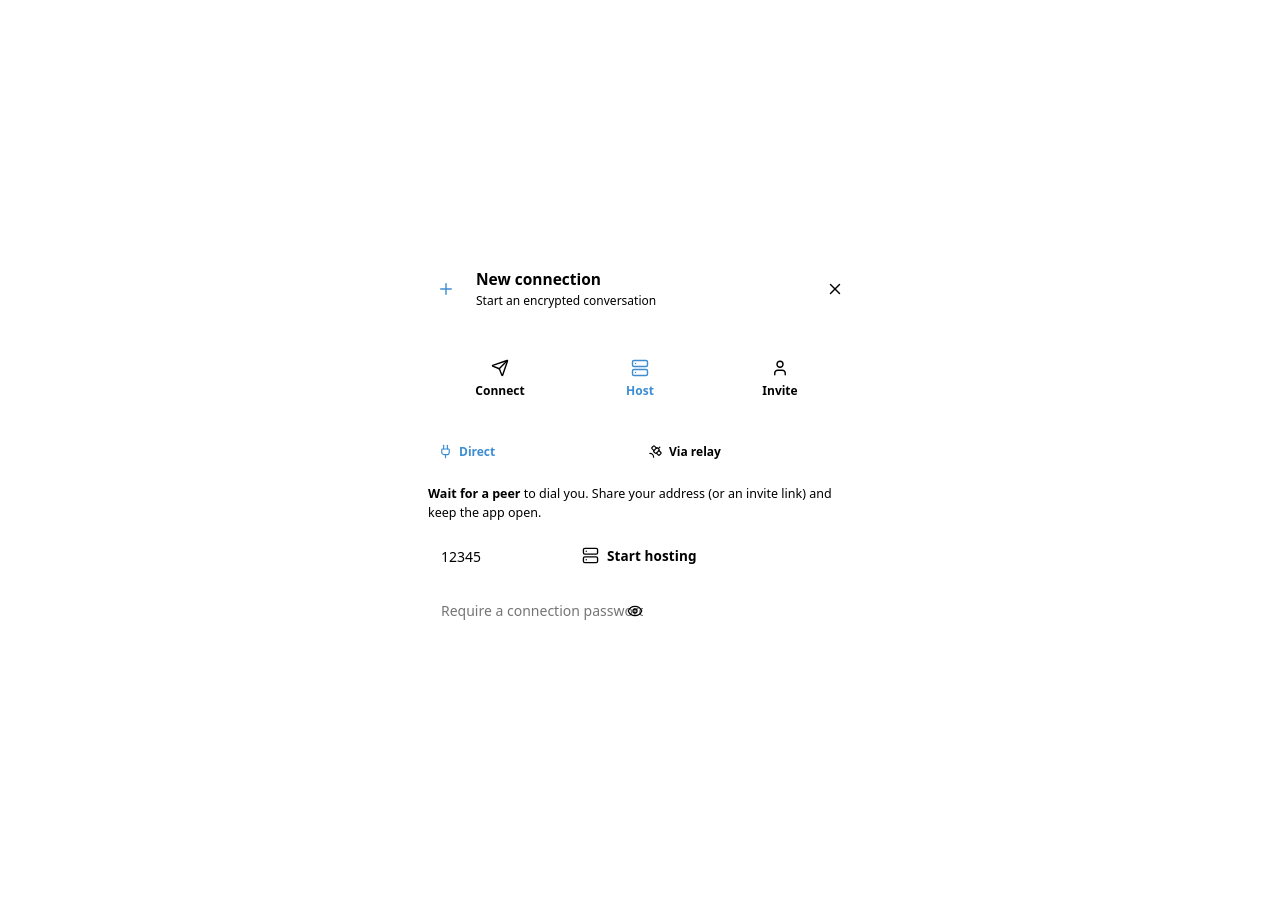
Scenario: Creator — hosting › rejects a bad listening port
The image size is (1280, 900).
Replace the text in the field showing "12345" with "0": (493, 556) [428,536,558,576]
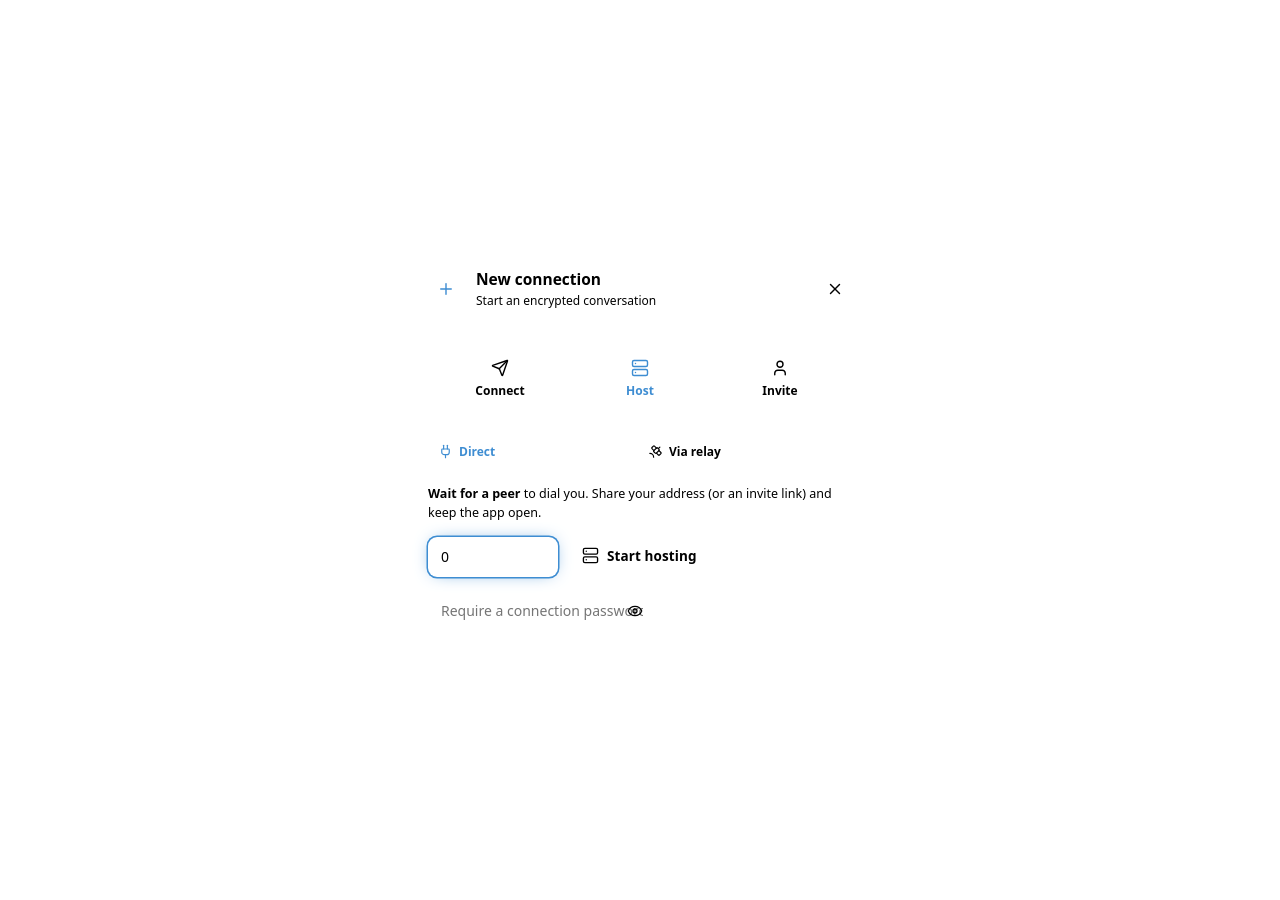
Click the button "Start hosting": (639, 555) [566,536,713,574]
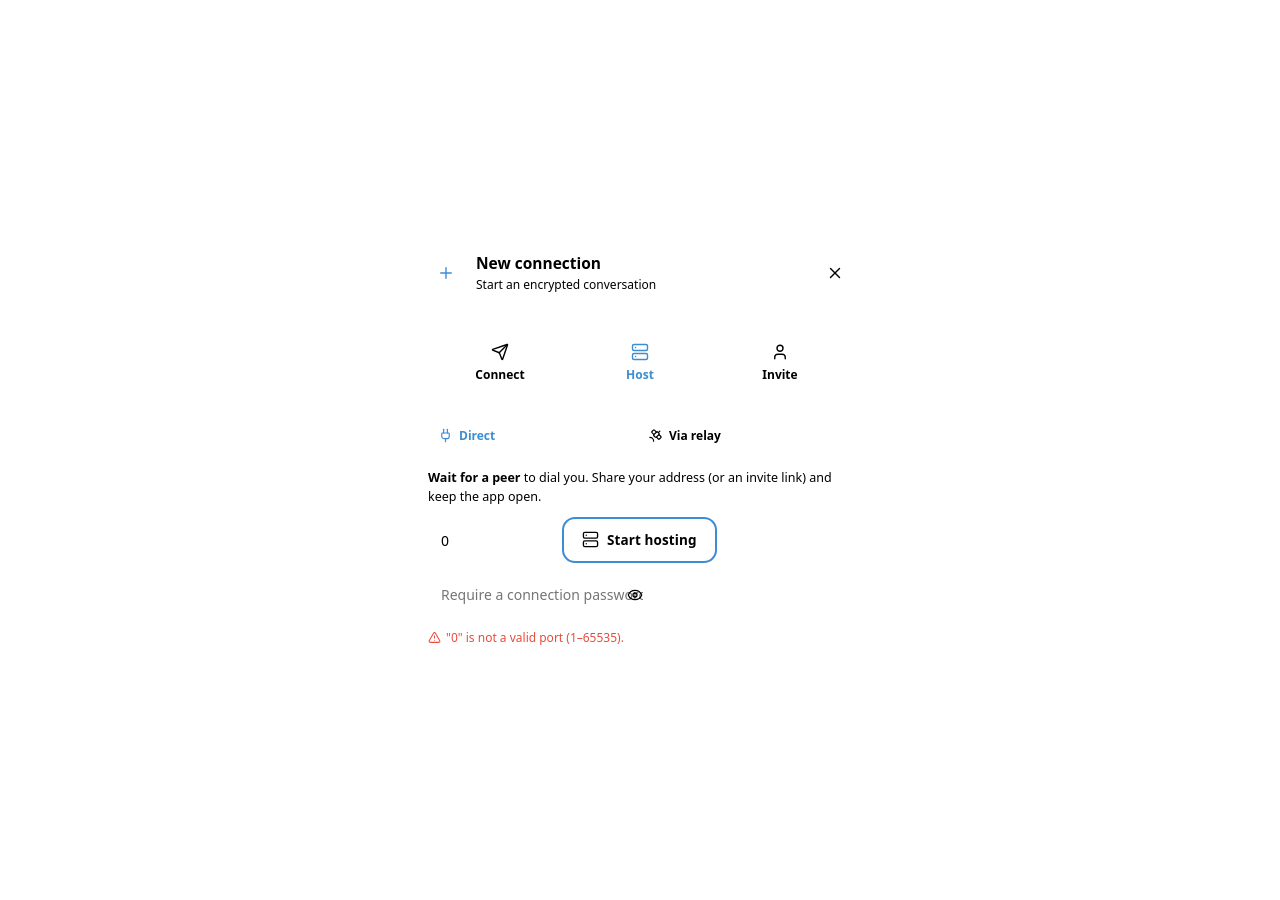
Now the text "\"0\" is not a valid port (1–65535)." is shown, box [428,628,624,645]
